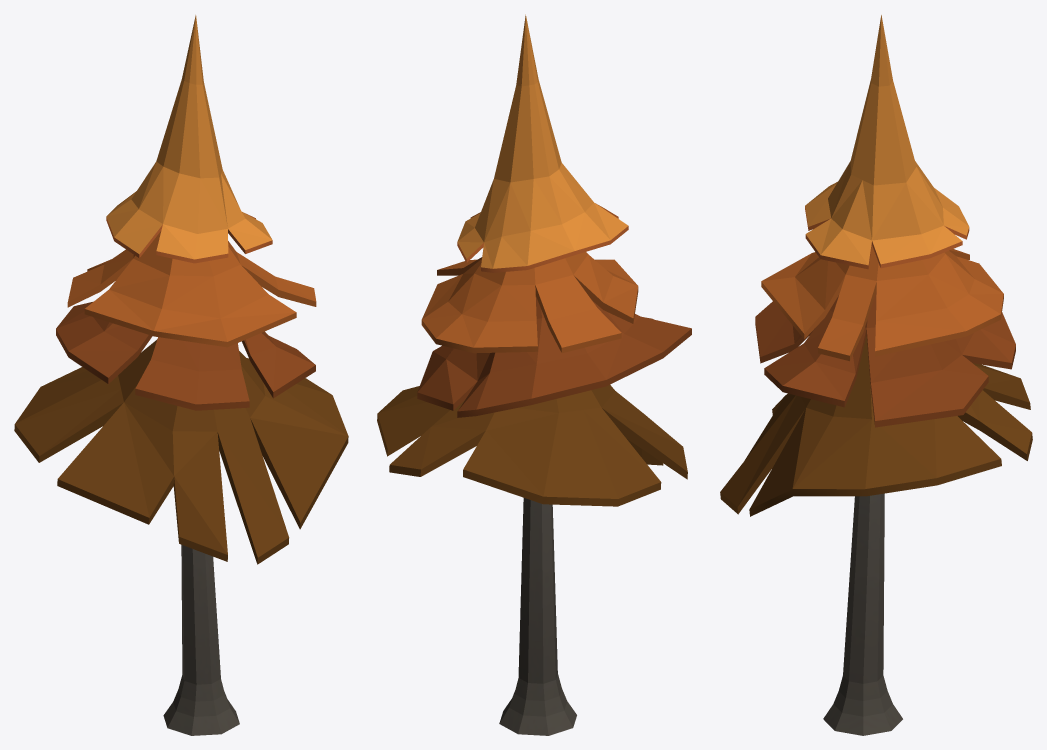
The model's file is ZLP_Plant_K_4.FBX.
The picture shows the model from 3 angles, left to right: view 1: azimuth 30°, elevation 25°; view 2: azimuth 150°, elevation 25°; view 3: azimuth 270°, elevation 25°; orthographic projection.
Parts seen in each view (by area): view 1: ZLP_Plant_K_4; view 2: ZLP_Plant_K_4; view 3: ZLP_Plant_K_4.
Boxes of the visible parts, x1=… form: ZLP_Plant_K_4: x1=14, y1=15, x2=348, y2=735; ZLP_Plant_K_4: x1=377, y1=14, x2=691, y2=735; ZLP_Plant_K_4: x1=720, y1=15, x2=1032, y2=735.
Size of the model in its own units: 190 by 458 by 184.
